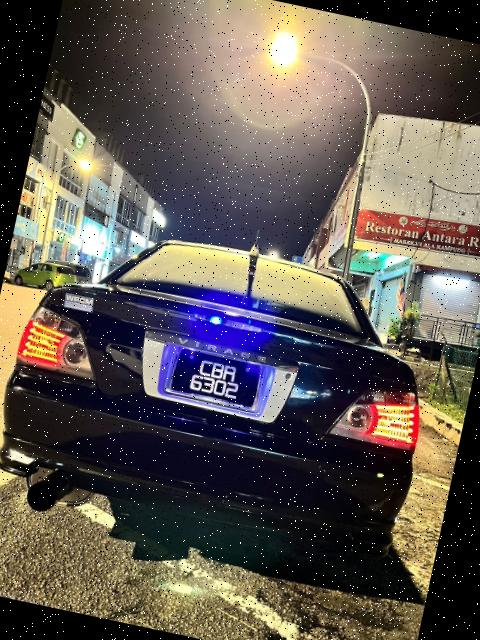License_Plate: (173, 351, 264, 409)
car: (1, 202, 460, 584)
